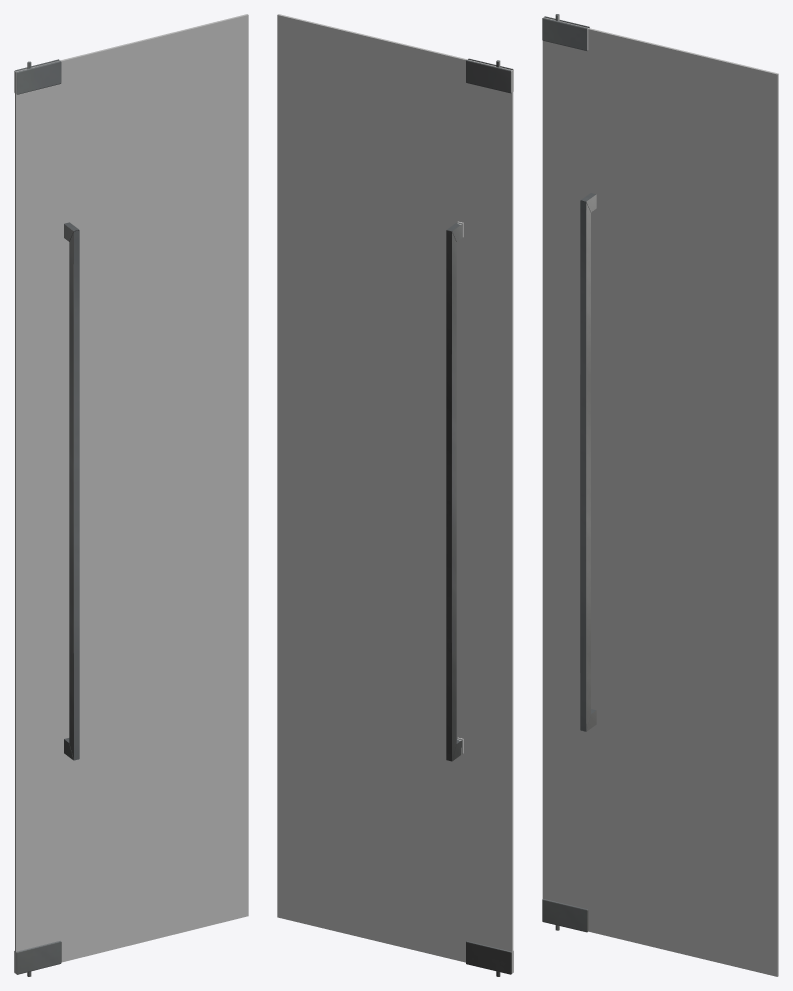
File: door2.gltf
3 views of the same model, side by side, from view 1: azimuth 30°, elevation 25°; view 2: azimuth 150°, elevation 25°; view 3: azimuth 330°, elevation 25° (orthographic).
Parts seen in each view (by area): view 1: Box131-Material #13461, Box131-05 - Default; view 2: Box131-Material #13461, Box131-05 - Default; view 3: Box131-Material #13461, Box131-05 - Default.
Boxes of the visible parts, left/top/right/bottom form: Box131-Material #13461: left=15, top=14, right=248, bottom=973; Box131-05 - Default: left=14, top=59, right=79, bottom=976; Box131-Material #13461: left=277, top=14, right=513, bottom=973; Box131-05 - Default: left=446, top=58, right=513, bottom=976; Box131-Material #13461: left=542, top=17, right=778, bottom=976; Box131-05 - Default: left=542, top=14, right=596, bottom=932.
Size of the model in its own units: 68.72 by 257 by 11.97.
3 materials, 1 textured.
